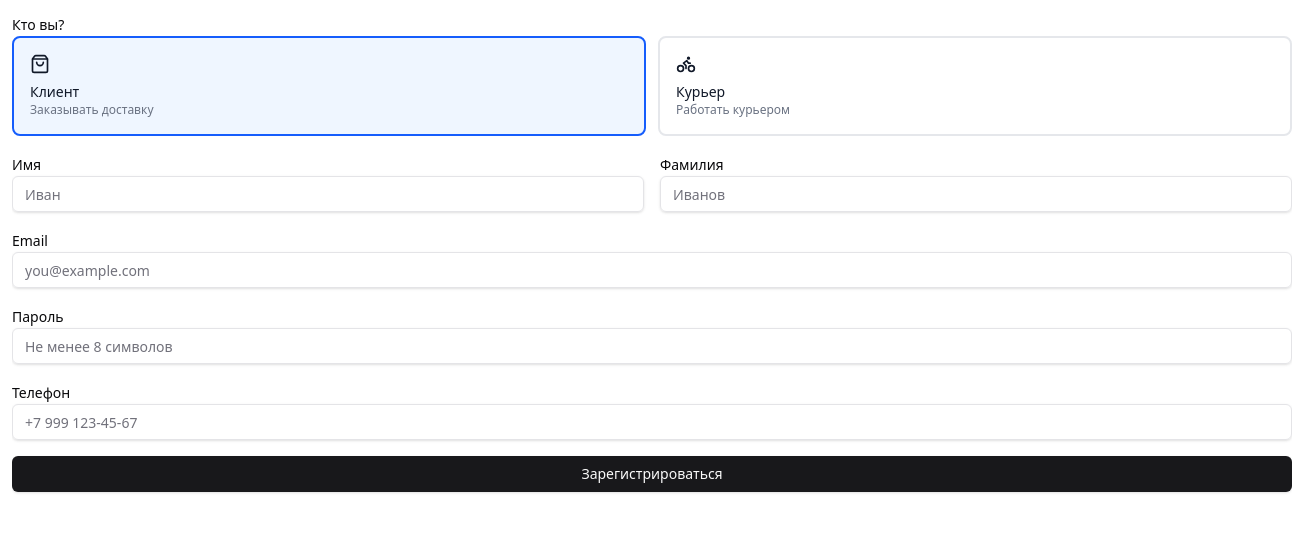
Test: RegisterForm › shows inline error on invalid phone format
The width and height of the screenshot is (1304, 538).
Type "a@b.io" into the field labelled "Email".
click(652, 270); type("a@b.io")  # box [12,252,1292,288]
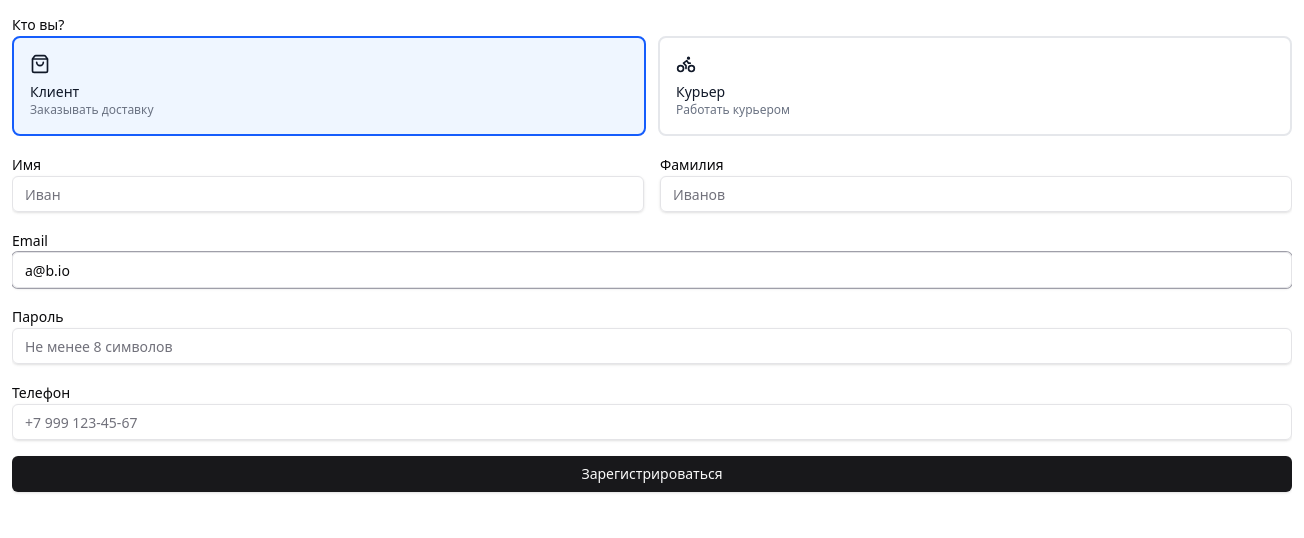
Type "password123" into the password field labelled "Пароль".
click(652, 346); type("password123")  # box [12,328,1292,364]
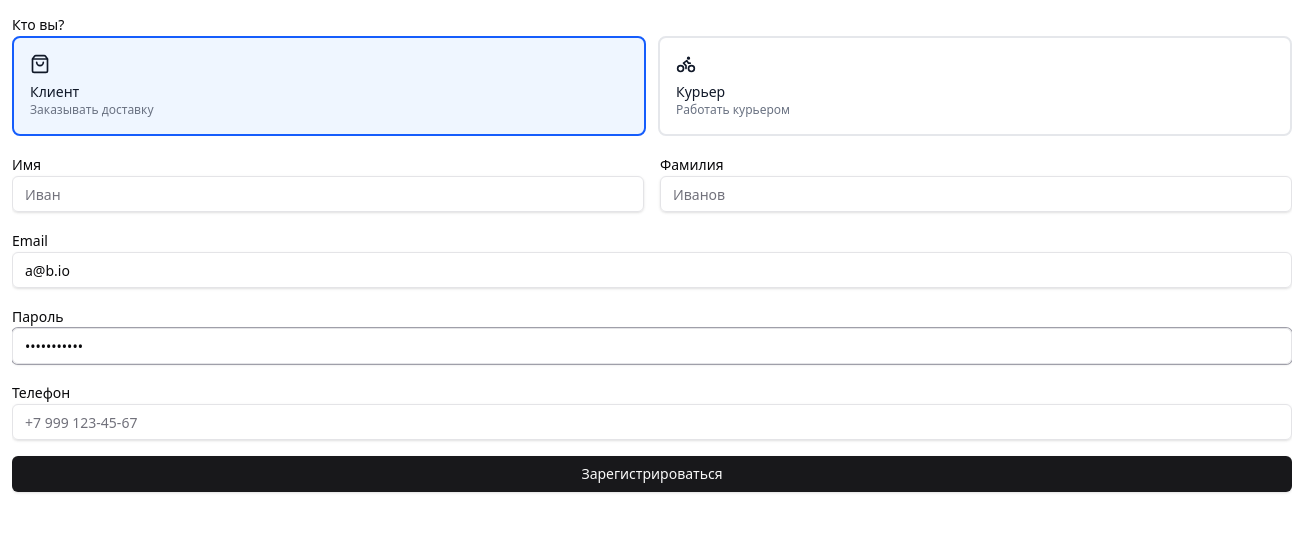
Type "Ivan" into the field labelled "Имя".
click(328, 194); type("Ivan")  # box [12,176,644,212]
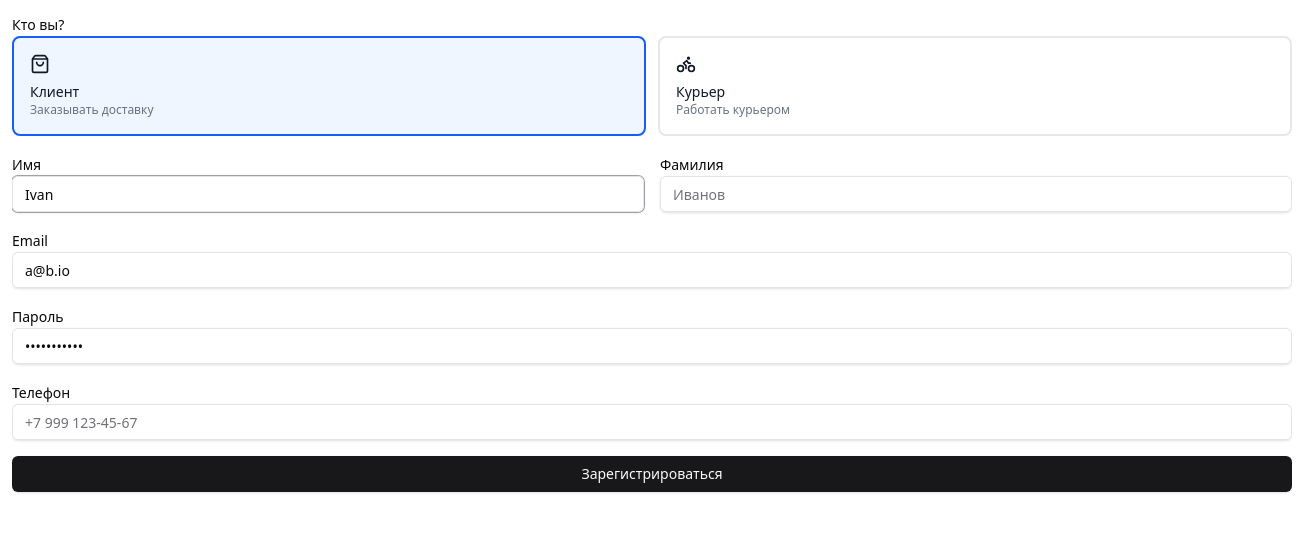
Type "Ivanov" into the field labelled "Фамилия".
click(976, 194); type("Ivanov")  # box [660,176,1292,212]
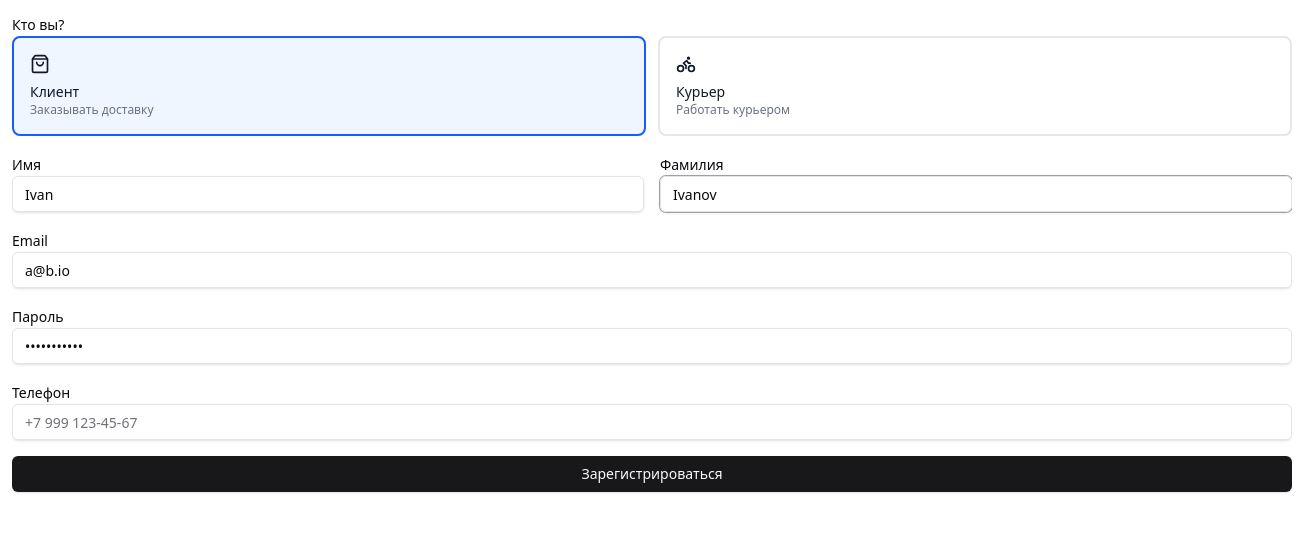
Type "12345" into the field with placeholder "+7 999 123-45-67".
click(652, 422); type("12345")  # box [12,404,1292,440]
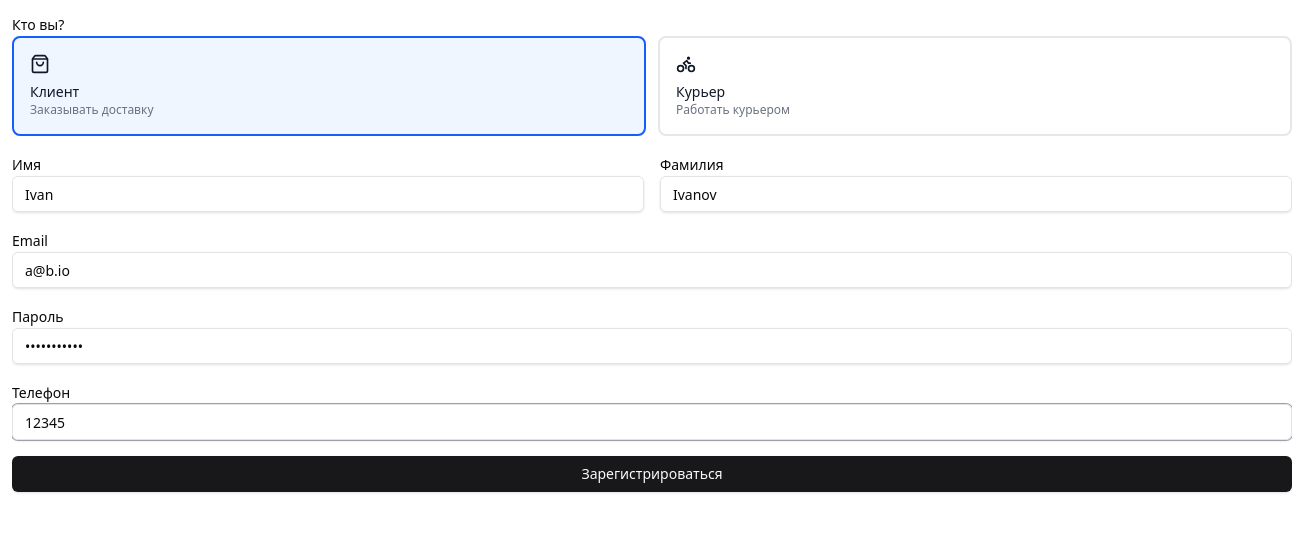
Click the button "Зарегистрироваться".
click(652, 474)  # box [12,456,1292,492]
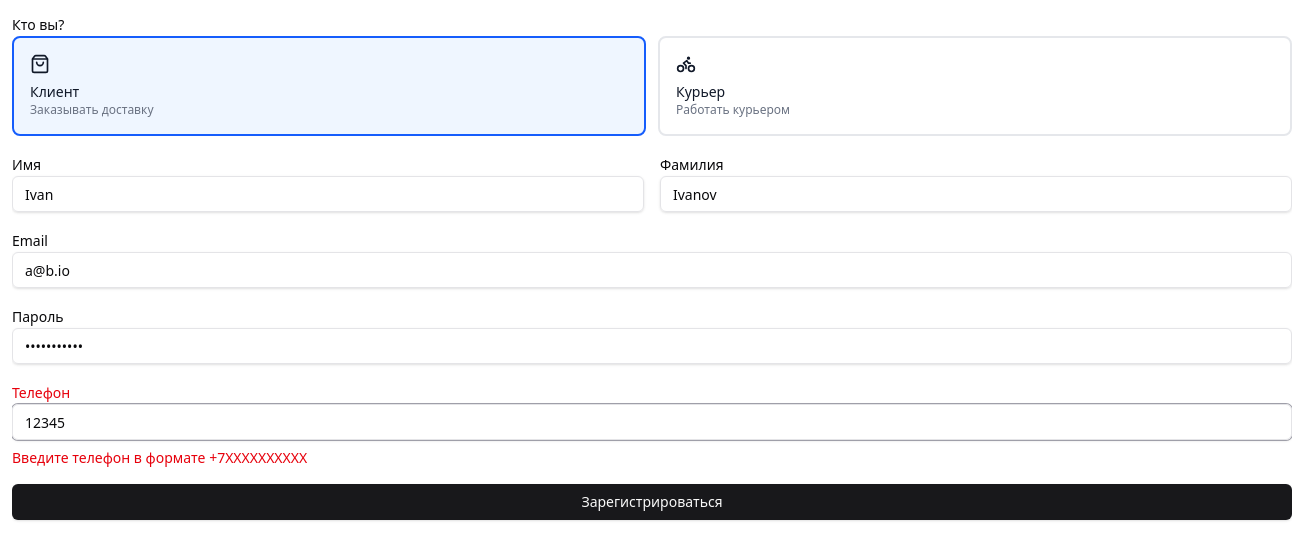
expect the text "Введите телефон в формате +7XXXXXXXXXX" is shown: met, box [12,448,307,467]
